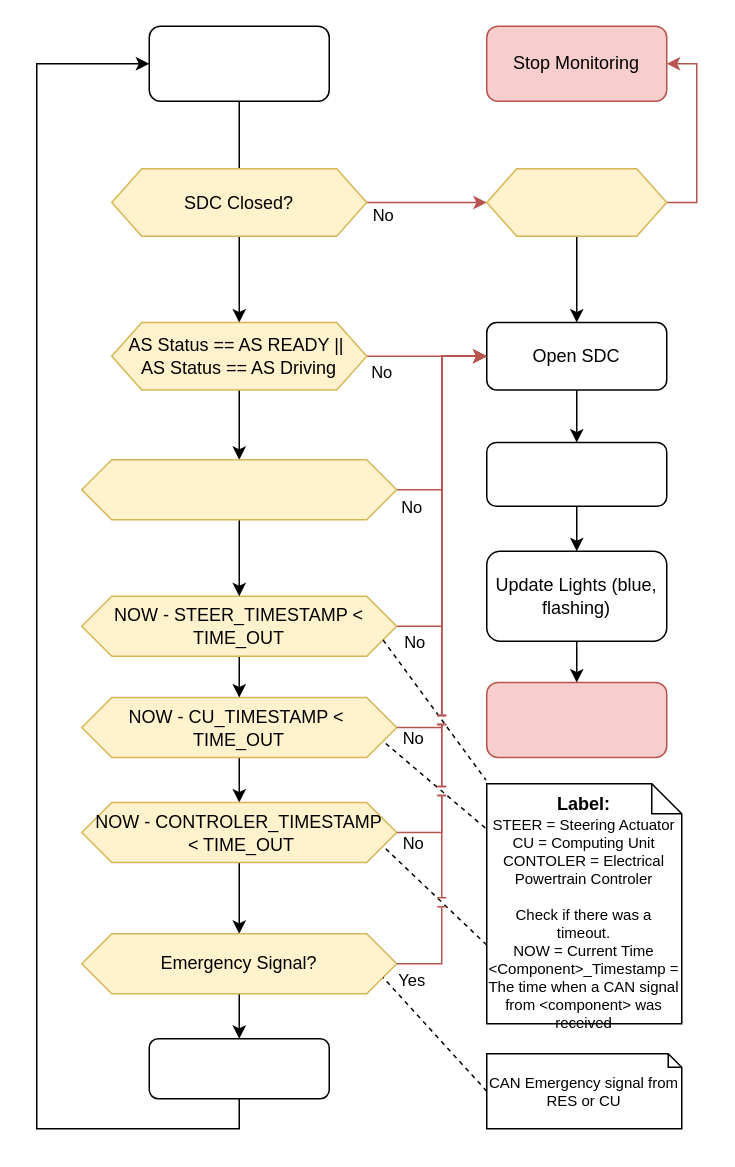
Image size: 735x1167. Some labels were removed from this diagram. Here are the shapes that lost their labels. From the top down, the box of each, then its label:
(148, 25, 329, 101): Vehicle Ready
(485, 167, 667, 236): BP3 < 50 bar || BP4 < 50 bar
(80, 458, 397, 520): BP1 > 6 bar && BP2 > 6 bar
(485, 441, 667, 506): Turn Buzzer ON
(485, 681, 667, 758): Transition to emergency state
(148, 1037, 329, 1099): Toggle Watchdog
